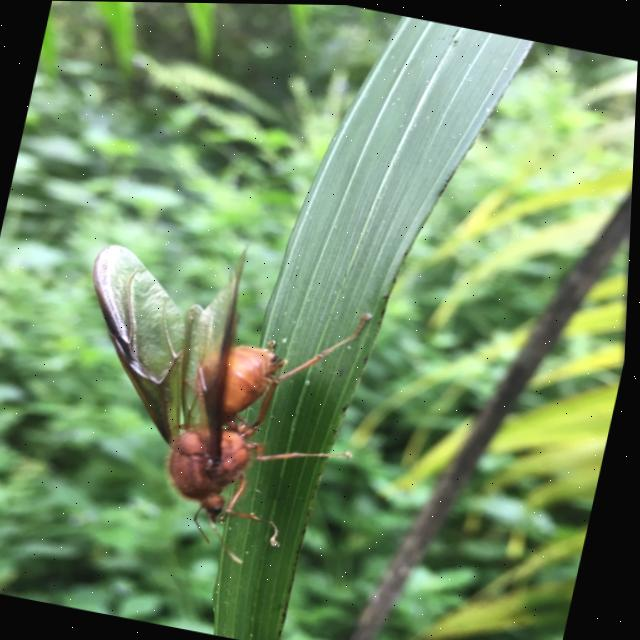Alive-Male-Alate: (37, 215, 399, 581)
